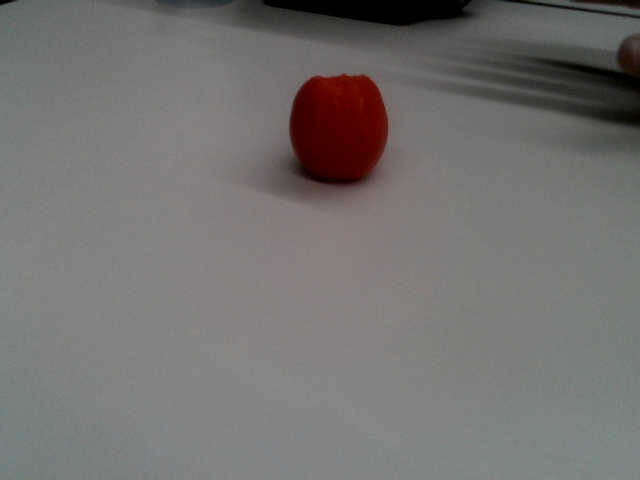Crvena jabuka: (289, 74, 387, 180)
